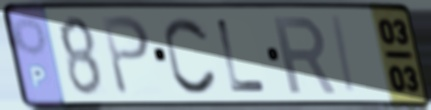8: (59, 14, 105, 98)
C: (162, 14, 221, 97)
I: (330, 12, 360, 97)
L: (214, 16, 270, 95)
P: (98, 13, 153, 98)
R: (270, 13, 340, 97)
